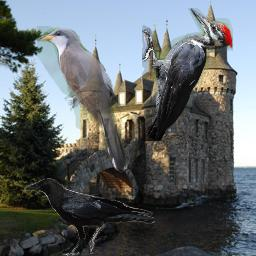Crow: (24, 177, 155, 256)
Cuckoo: (37, 26, 131, 174)
Woodpecker: (142, 8, 233, 141)
